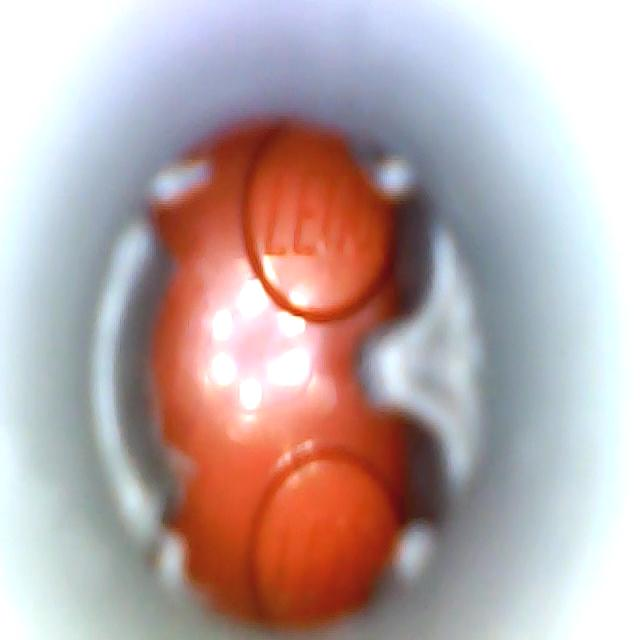studs: (242, 132, 394, 321), (250, 451, 398, 624)
